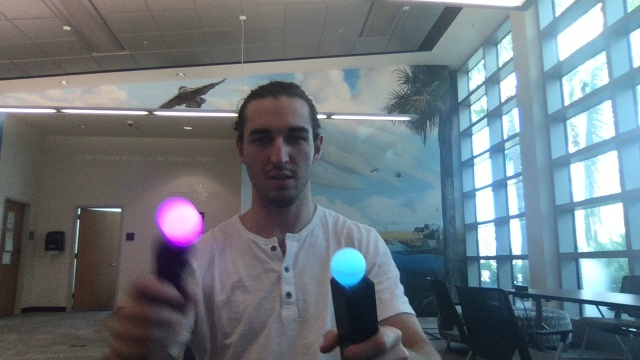wand: (158, 198, 203, 244), (332, 248, 367, 286)
